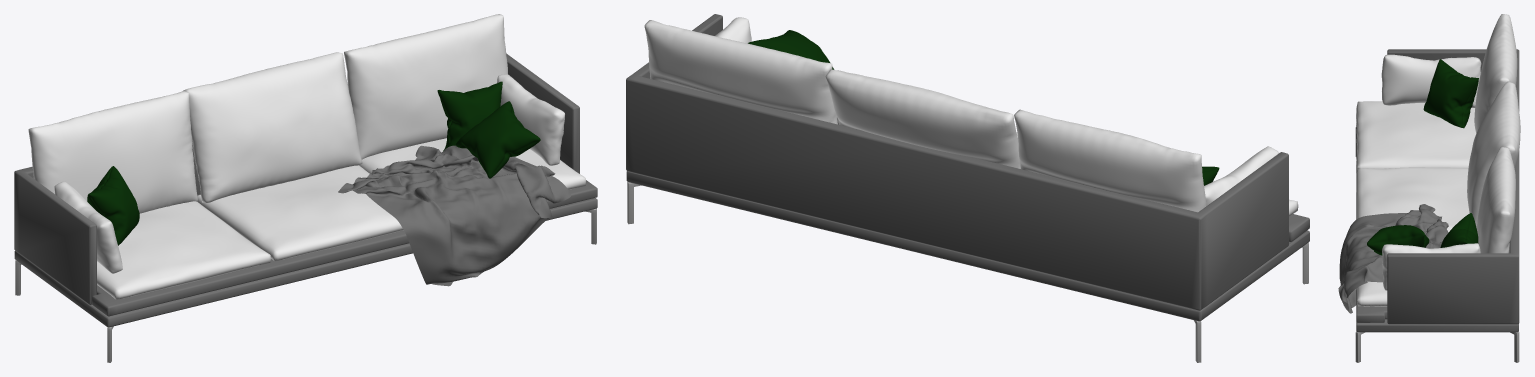
The model's file is sofa.glb.
The picture shows the model from 3 angles, left to right: view 1: azimuth 30°, elevation 25°; view 2: azimuth 150°, elevation 25°; view 3: azimuth 270°, elevation 25°; orthographic projection. The views are drawn at different scales.
Visible parts, largest first — view 1: Sofa_1; view 2: Sofa_1; view 3: Sofa_1.
Boxes of the visible parts, left/top/right/bottom form: Sofa_1: left=14, top=14, right=597, bottom=362; Sofa_1: left=626, top=14, right=1309, bottom=362; Sofa_1: left=1338, top=14, right=1520, bottom=362.
Bounding box in the file's own units: 2.24 × 0.7441 × 0.8331.
